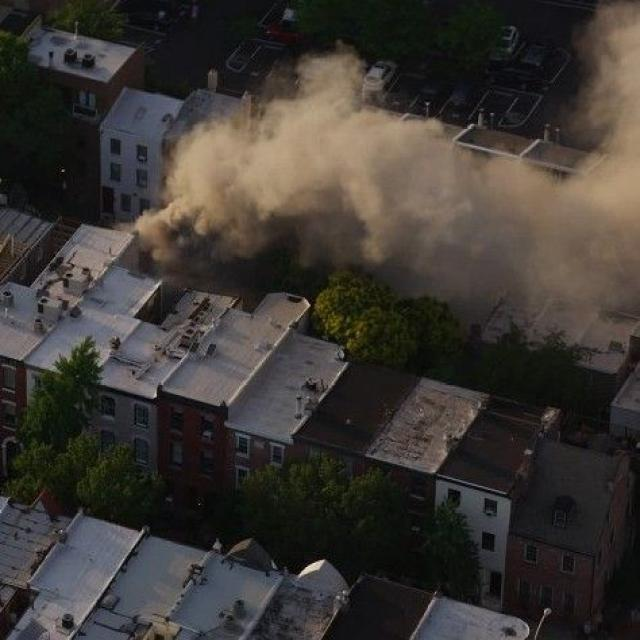Smoke: (175, 28, 637, 280)
